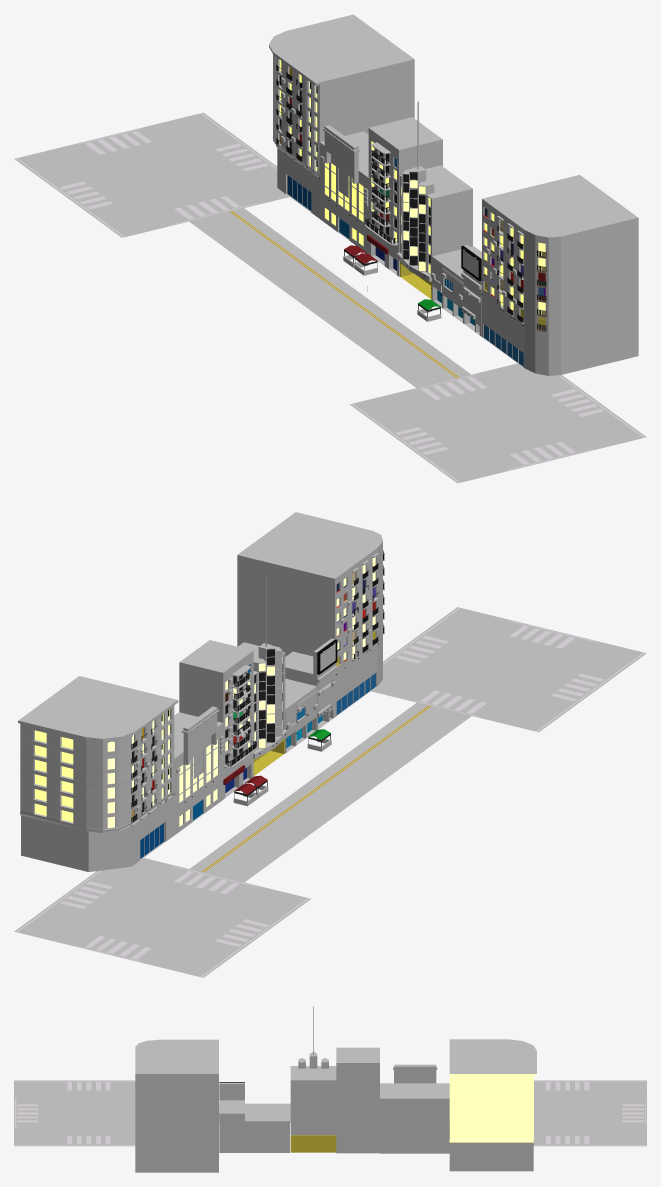
The model's file is EdificiosBeta.fbx.
The picture shows the model from 3 angles, top to bottom: view 1: azimuth 30°, elevation 25°; view 2: azimuth 150°, elevation 25°; view 3: azimuth 270°, elevation 25°; orthographic projection. The views are drawn at different scales.
Visible parts, largest first — view 1: Cube.6068, Plane.057, Plane.071, Cube.3816, Plane.048, Cube.5942, Cube.6029, Cube.3797, Cube.6151, Cube.6012, Cube.5941, Cube.6021; view 2: Cube.3816, Plane.071, Plane.057, Cube.6068, Plane.048, Cube.6151, Cube.6029, Cube.3797, Cube.5942, Cube.6012, Cube.5941, Cube.6019; view 3: Cube.6068, Cube.3816, Plane.057, Plane.071, Cube.3797, Cube.6029, Cube.5942, Cube.6151, Cube.6012, Cube.5941, Cube.6019, Cube.6020 (+1 smaller).
Part boxes in pixels (x1,y1,x2,y2): Cube.6068: (482,175,638,375); Plane.057: (350,363,646,483); Plane.071: (14,112,288,237); Cube.3816: (269,14,414,177); Plane.048: (189,208,470,387); Cube.5942: (399,101,472,274); Cube.6029: (368,117,442,276); Cube.3797: (319,125,368,253); Cube.6151: (277,147,319,218); Cube.6012: (461,245,481,336); Cube.5941: (396,252,431,299); Cube.6021: (432,246,481,307); Cube.3816: (18,676,178,833); Plane.071: (14,858,310,977); Plane.057: (371,607,646,732); Cube.6068: (237,512,382,716); Plane.048: (190,702,471,882); Cube.6151: (21,795,174,871); Cube.6029: (179,640,253,799); Cube.3797: (174,706,223,835); Cube.5942: (238,578,285,749); Cube.6012: (285,638,337,729); Cube.5941: (253,729,287,775); Cube.6019: (285,678,316,737); Cube.6068: (135,1039,218,1172); Cube.3816: (449,1039,536,1142); Plane.057: (14,1080,135,1146); Plane.071: (533,1080,646,1146); Cube.3797: (380,1064,449,1153); Cube.6029: (336,1047,379,1153); Cube.5942: (290,1006,336,1135); Cube.6151: (449,1142,533,1171); Cube.6012: (219,1082,244,1152); Cube.5941: (290,1135,336,1152); Cube.6019: (245,1107,259,1152); Cube.6020: (260,1107,274,1152).
Bounding box in the file's own units: 6181 × 4147 × 17842.
